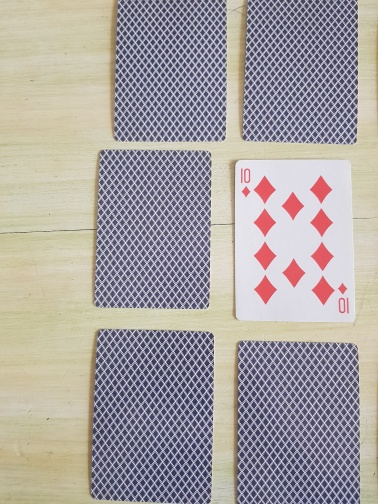ten: (232, 158, 357, 324)
